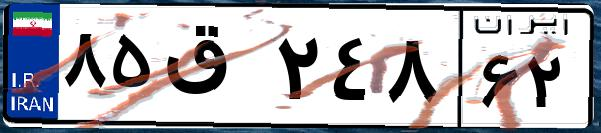2: (270, 28, 330, 110), (525, 38, 570, 115)
4: (330, 28, 385, 110)
5: (110, 28, 158, 98)
6: (475, 38, 525, 113)
8: (385, 28, 445, 110), (57, 26, 110, 100)
ق: (158, 20, 270, 120)
